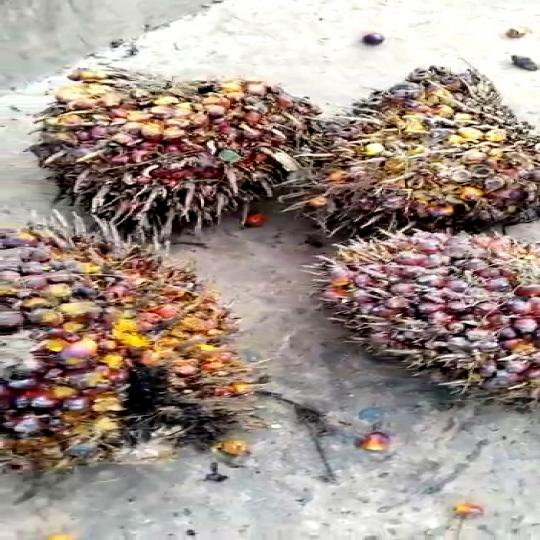masak: (0, 226, 239, 477), (35, 66, 314, 239), (284, 242, 540, 420), (305, 56, 540, 236)
